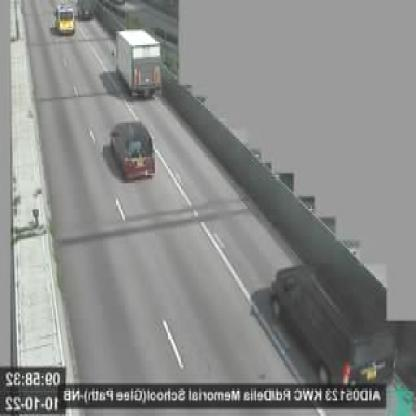Car: (271, 258, 390, 388), (111, 122, 156, 180), (54, 2, 76, 36), (78, 1, 95, 21)
Truck: (116, 27, 162, 95)
